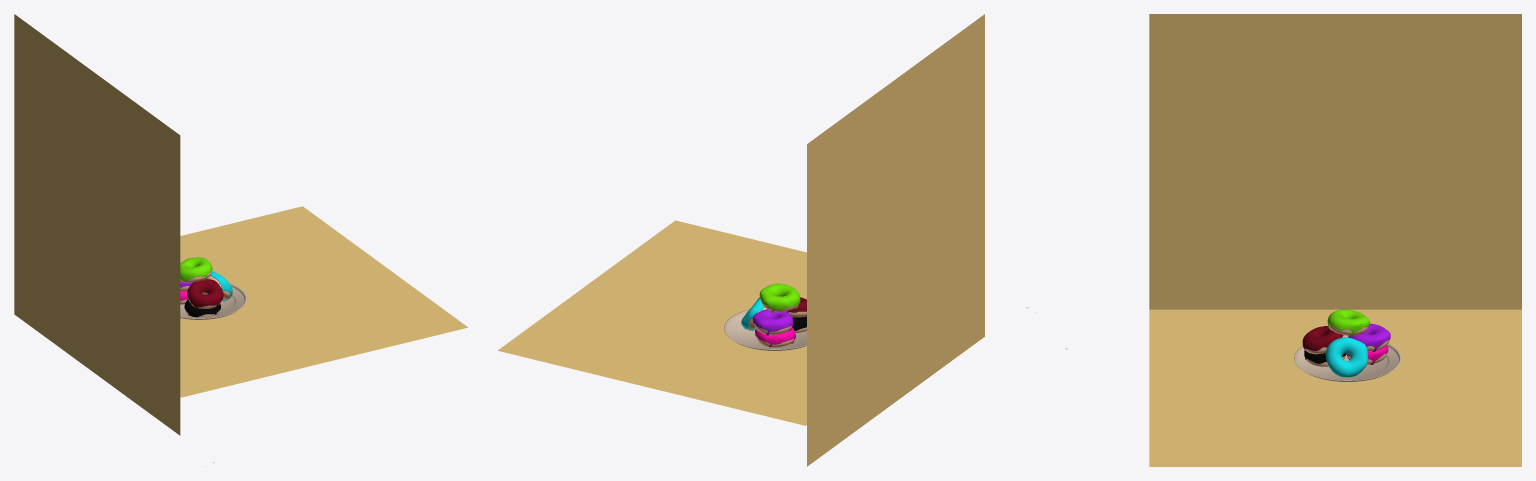
The model's file is donuts_export_camera.glb.
3 renders of one model, left to right at view 1: azimuth 30°, elevation 25°; view 2: azimuth 150°, elevation 25°; view 3: azimuth 270°, elevation 25°, orthographic. The views are drawn at different scales.
Parts seen in each view (by area): view 1: Plane.001, Plane, Donut.005, Circle, Donut.011; view 2: Plane.001, Plane, Circle, Donut.011, Donut.009; view 3: Plane.001, Plane, Circle, Donut.007, Donut.011, Donut.005, Donut.009.
Boxes of the visible parts, x1=… form: Plane.001: x1=14, y1=14, x2=180, y2=435; Plane: x1=180, y1=206, x2=467, y2=397; Donut.005: x1=187, y1=279, x2=223, y2=307; Circle: x1=180, y1=283, x2=246, y2=319; Donut.011: x1=180, y1=257, x2=212, y2=281; Plane.001: x1=807, y1=14, x2=984, y2=466; Plane: x1=498, y1=220, x2=806, y2=425; Circle: x1=724, y1=309, x2=806, y2=350; Donut.011: x1=759, y1=283, x2=800, y2=312; Donut.009: x1=752, y1=309, x2=793, y2=335; Plane.001: x1=1149, y1=14, x2=1521, y2=309; Plane: x1=1149, y1=309, x2=1521, y2=466; Circle: x1=1294, y1=335, x2=1401, y2=381; Donut.007: x1=1325, y1=337, x2=1367, y2=377; Donut.011: x1=1327, y1=309, x2=1369, y2=336; Donut.005: x1=1302, y1=326, x2=1343, y2=352; Donut.009: x1=1348, y1=323, x2=1390, y2=351.
Size of the model in its own units: 1.17 by 1.12 by 1.37.
Materials: 10 (1 with a texture image).
